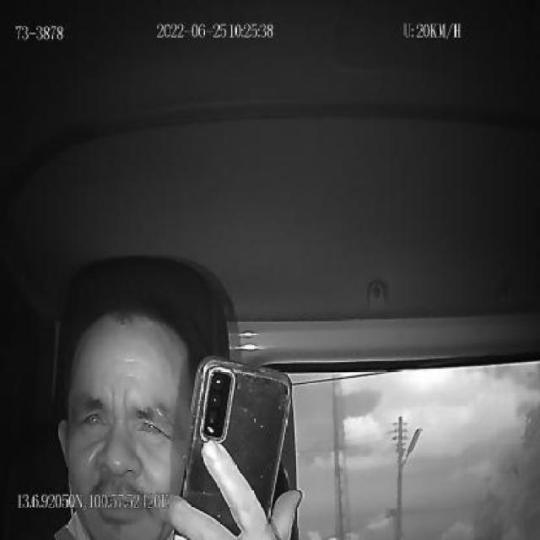phone: (174, 358, 292, 540)
